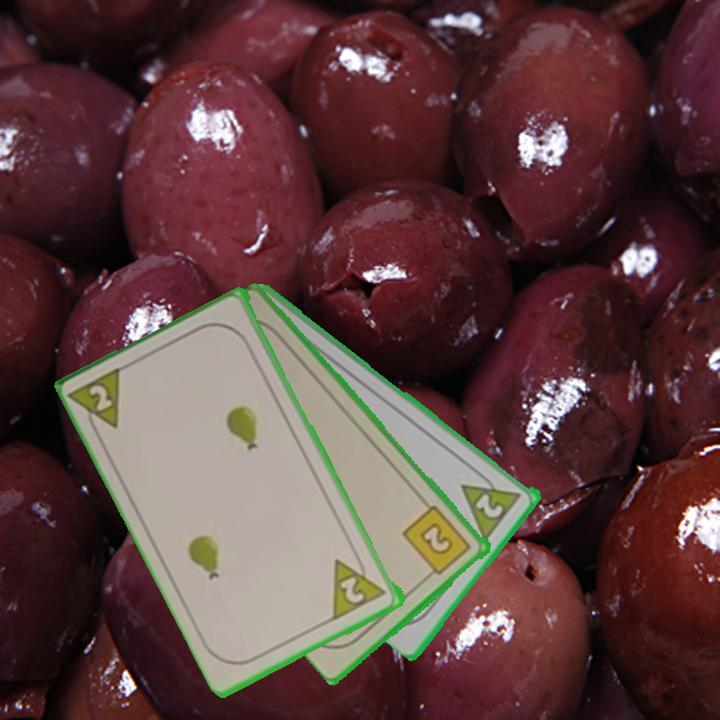2b: (399, 501, 475, 582)
2p: (458, 464, 525, 542), (67, 362, 128, 442), (329, 548, 390, 623)
